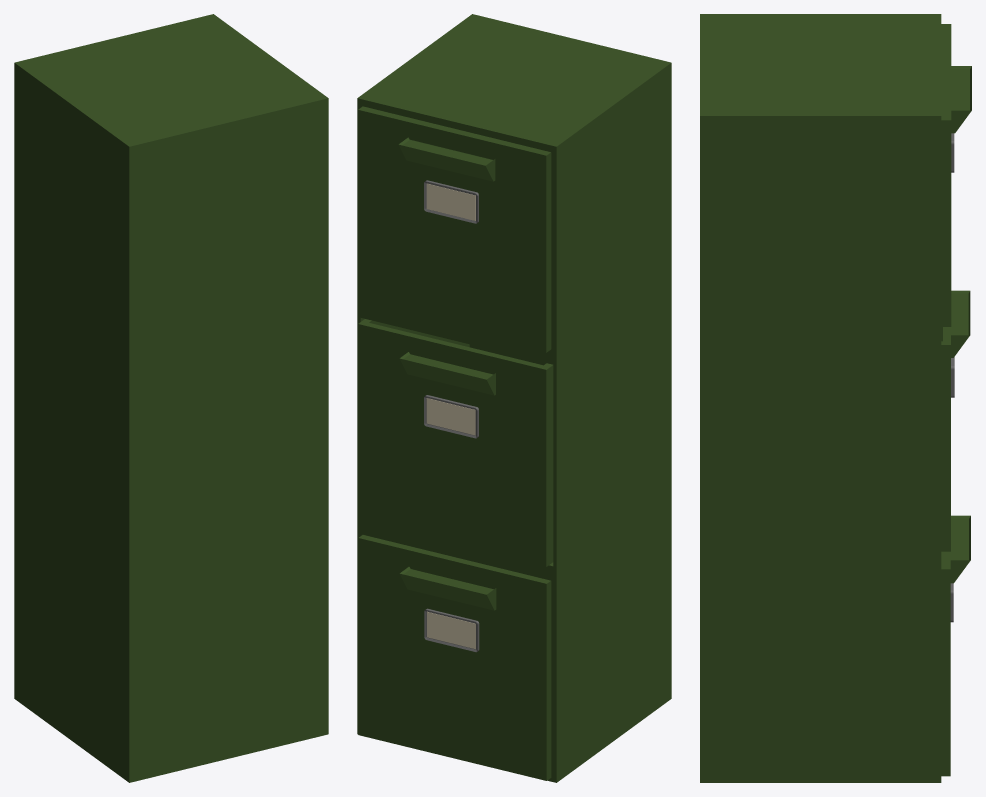
File: classeur_ref.glb
3 renders of one model, left to right at view 1: azimuth 30°, elevation 25°; view 2: azimuth 150°, elevation 25°; view 3: azimuth 270°, elevation 25°, orthographic. The views are drawn at different scales.
Parts seen in each view (by area): view 1: model; view 2: model; view 3: model.
Part boxes in pixels (bbox=[...]): model: bbox=[14, 14, 328, 782]; model: bbox=[357, 14, 671, 782]; model: bbox=[700, 14, 971, 782].
Bounding box in the file's own units: 3.7 × 11.28 × 4.17.
